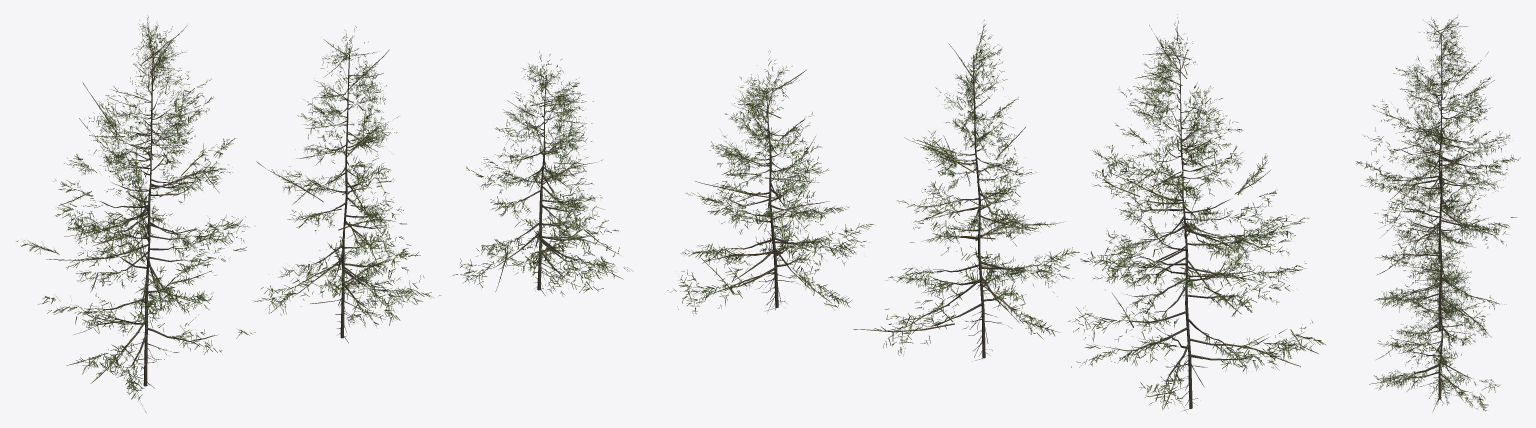
The model's file is fir_near.glb.
3 renders of one model, left to right at view 1: azimuth 30°, elevation 25°; view 2: azimuth 150°, elevation 25°; view 3: azimuth 270°, elevation 25°, orthographic. The views are drawn at different scales.
Parts seen in each view (by area): view 1: fir_sapling_medium_a_LOD0; view 2: fir_sapling_medium_a_LOD0; view 3: fir_sapling_medium_a_LOD0.
Boxes of the visible parts, x1,y1,x2,y2 form: fir_sapling_medium_a_LOD0: (16,15,633,412); fir_sapling_medium_a_LOD0: (667,14,1326,413); fir_sapling_medium_a_LOD0: (1355,15,1520,411).
Size of the model in its own units: 14.78 by 8.89 by 5.19.
Materials: 3 (3 with a texture image).
